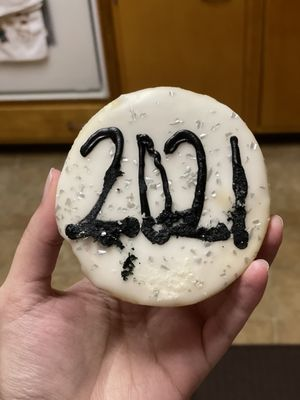pizza: (0, 166, 289, 400)
